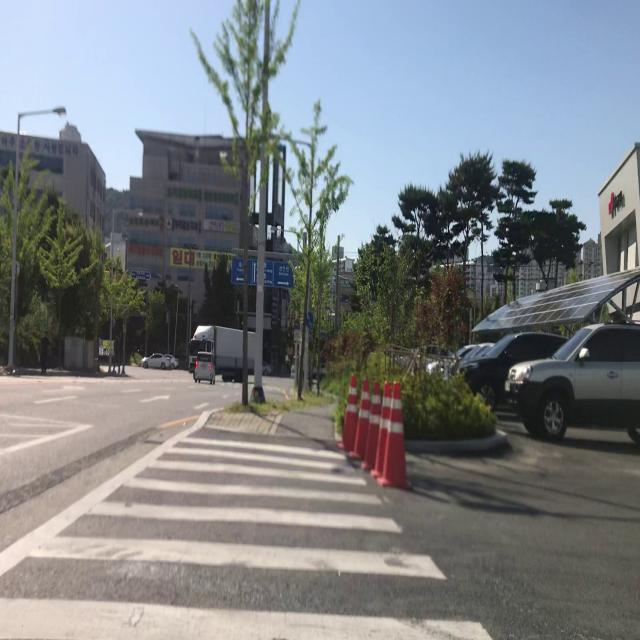횡단보도: (0, 432, 498, 640)
